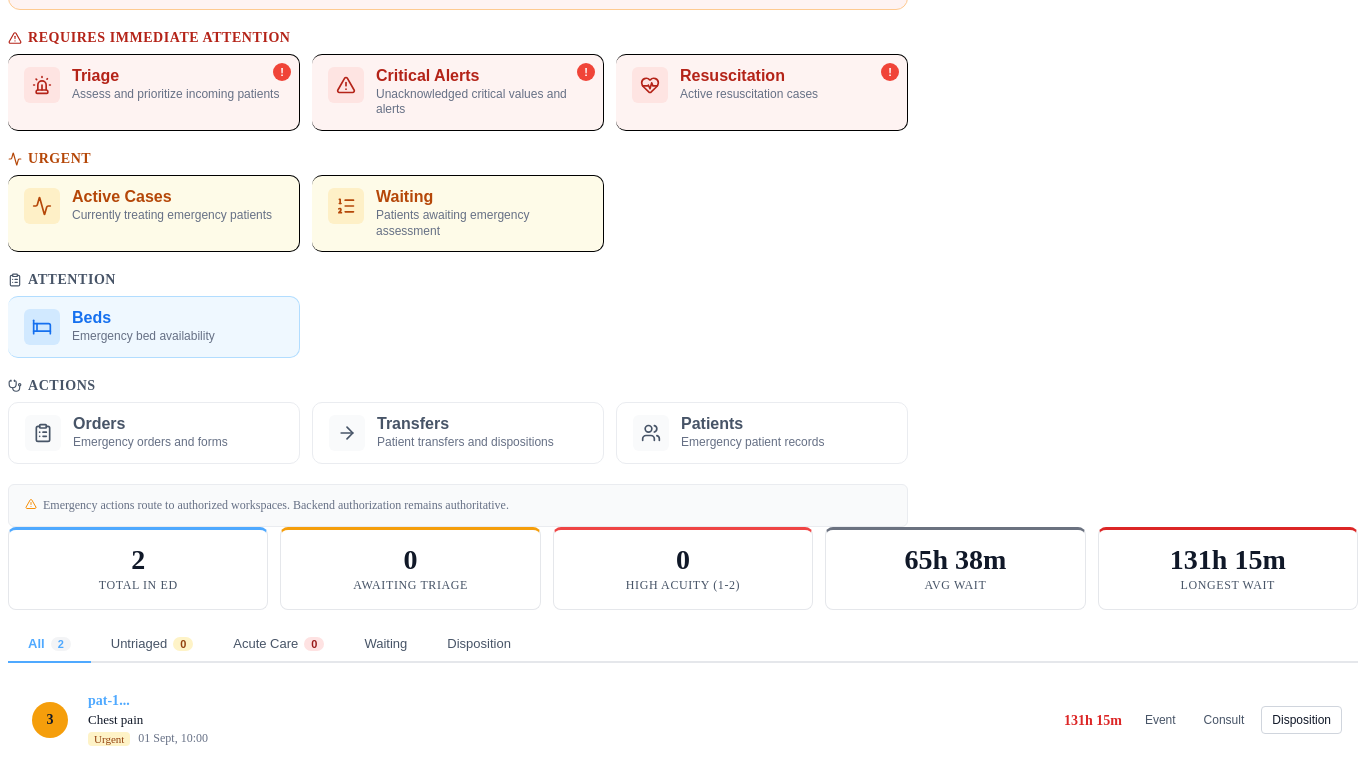
Test case: EmergencyPage contract alignment › shows the admission bed selector for the admitted disposition
This screenshot has width=1366, height=768.
(page scrolled)
Step 1. Click the button "Disposition" → (1302, 720), box top-left (1261, 706), bottom-right (1342, 734)
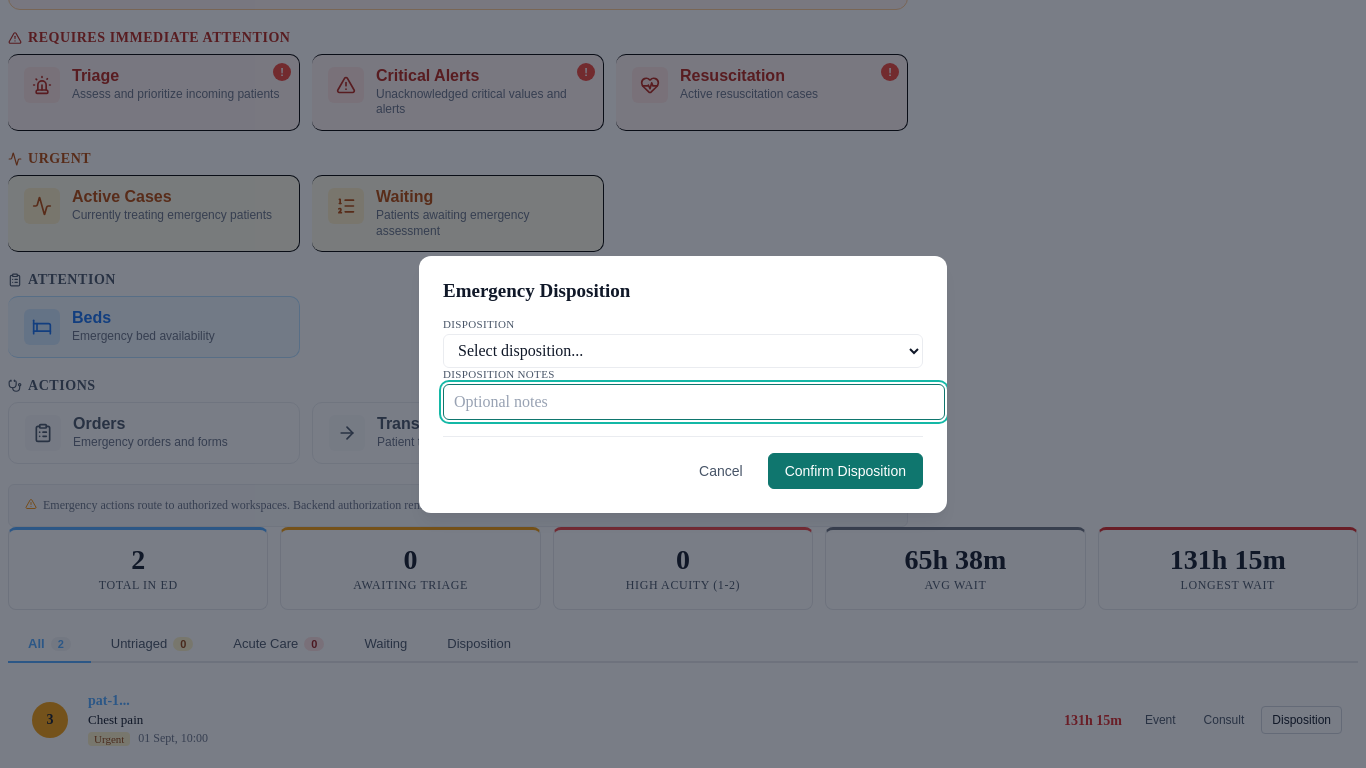
Step 2. Select "Admit to IPD" in the dropdown labelled "Disposition" → (683, 350), box top-left (443, 334), bottom-right (923, 368)
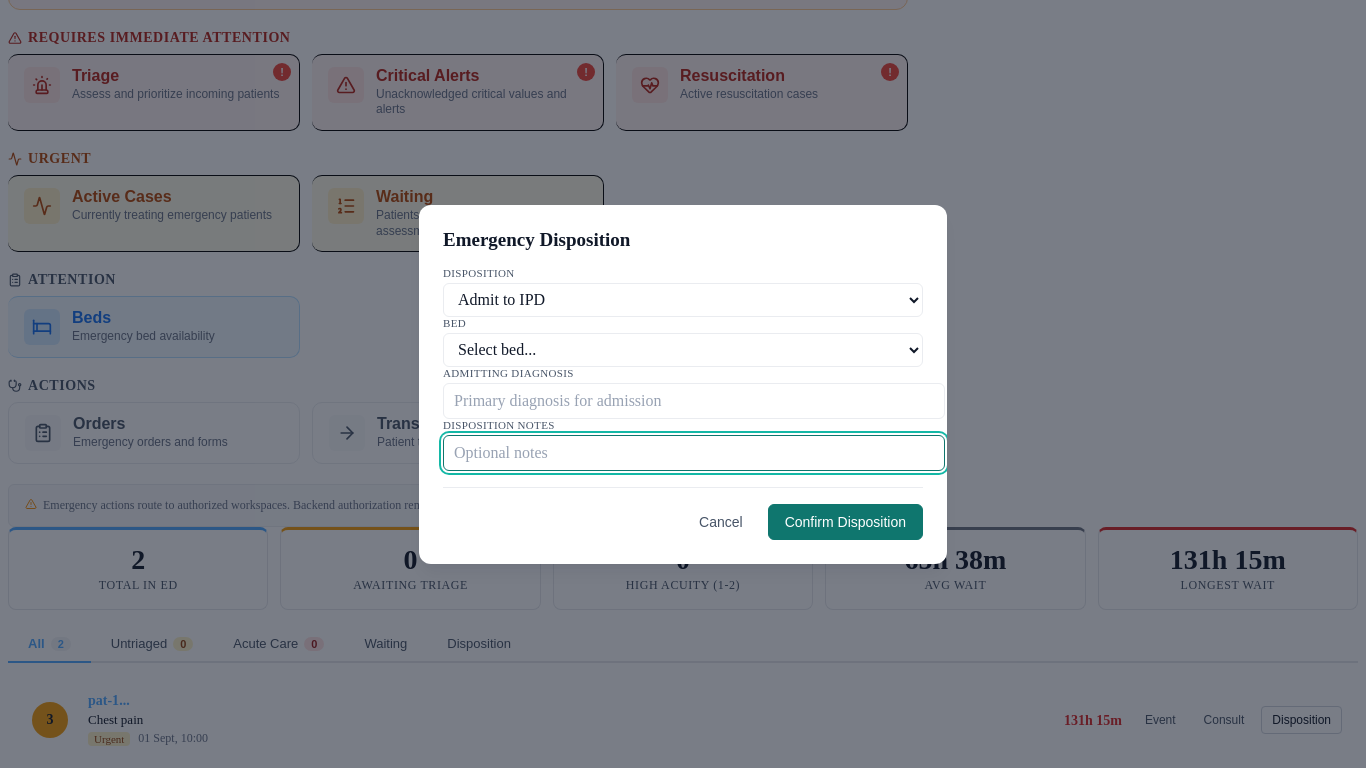
Expected: the dropdown labelled "Bed" is shown, top-left (443, 332), bottom-right (923, 366)
Expected: the text "Admitting Diagnosis" is shown, top-left (443, 366), bottom-right (574, 378)
